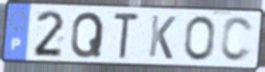2: (30, 10, 67, 59)
C: (219, 15, 255, 64)
K: (147, 13, 178, 61)
O: (183, 14, 216, 63)
Q: (68, 10, 106, 60)
T: (112, 11, 142, 61)
